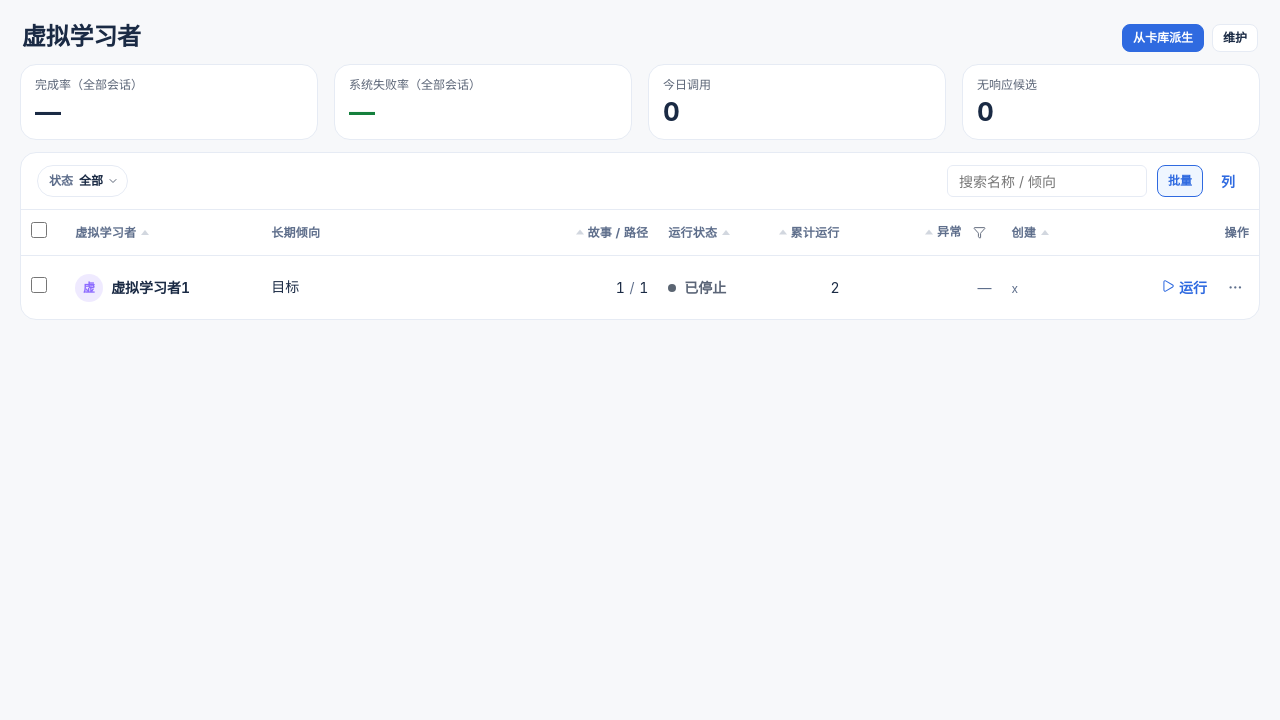
Test: VirtualLearners 批量管理与生命周期视图 › 页头主操作是「从卡库派生」：同页弹层选卡，不再跳卡库
Click the button "从卡库派生". click: (1163, 38)
box: 1122,24 -> 1204,52
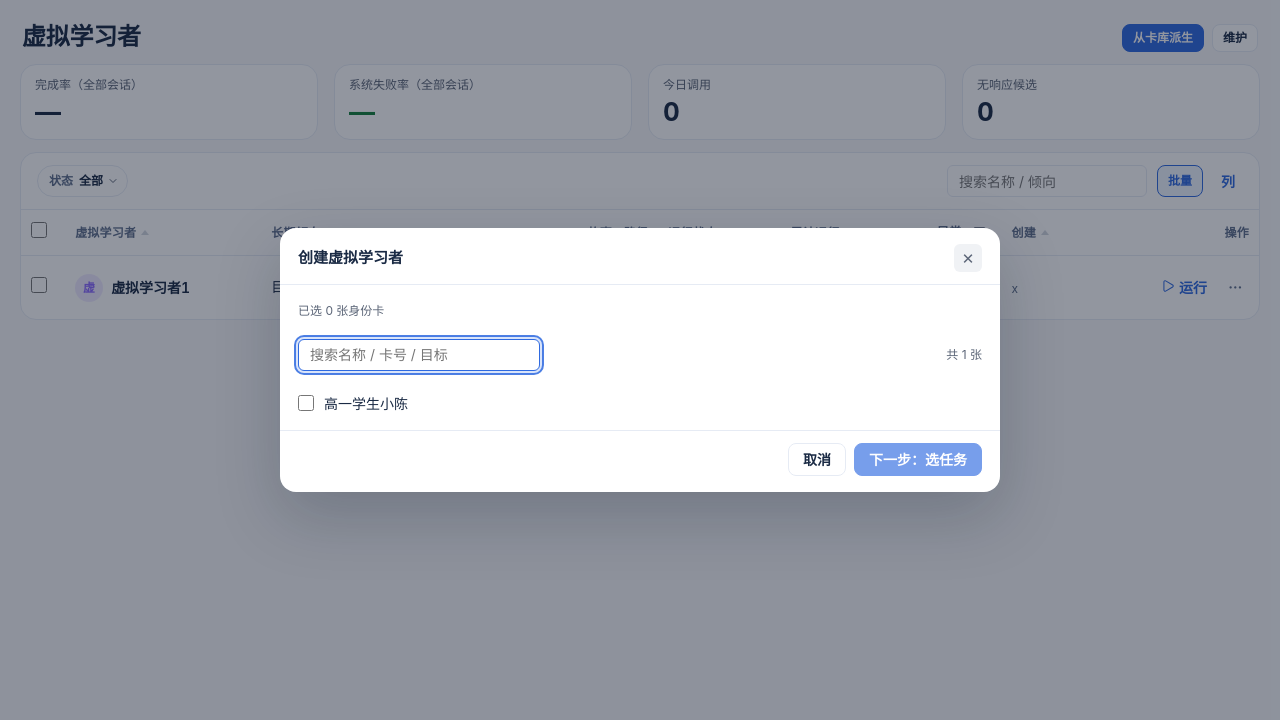
Expected: the text "创建虚拟学习者" is shown, 298,247 -> 403,270
